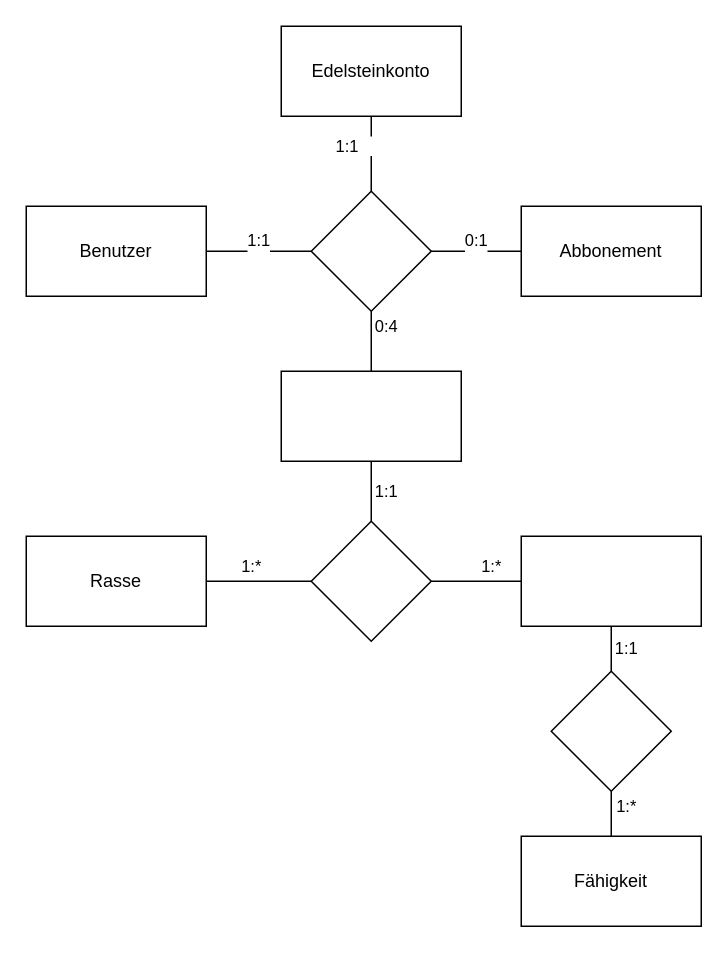
This 728x953 diagram has some shape labels left out. Each missing label, with the centre of its shape:
Charakter: [370,415]
Klasse: [610,580]
